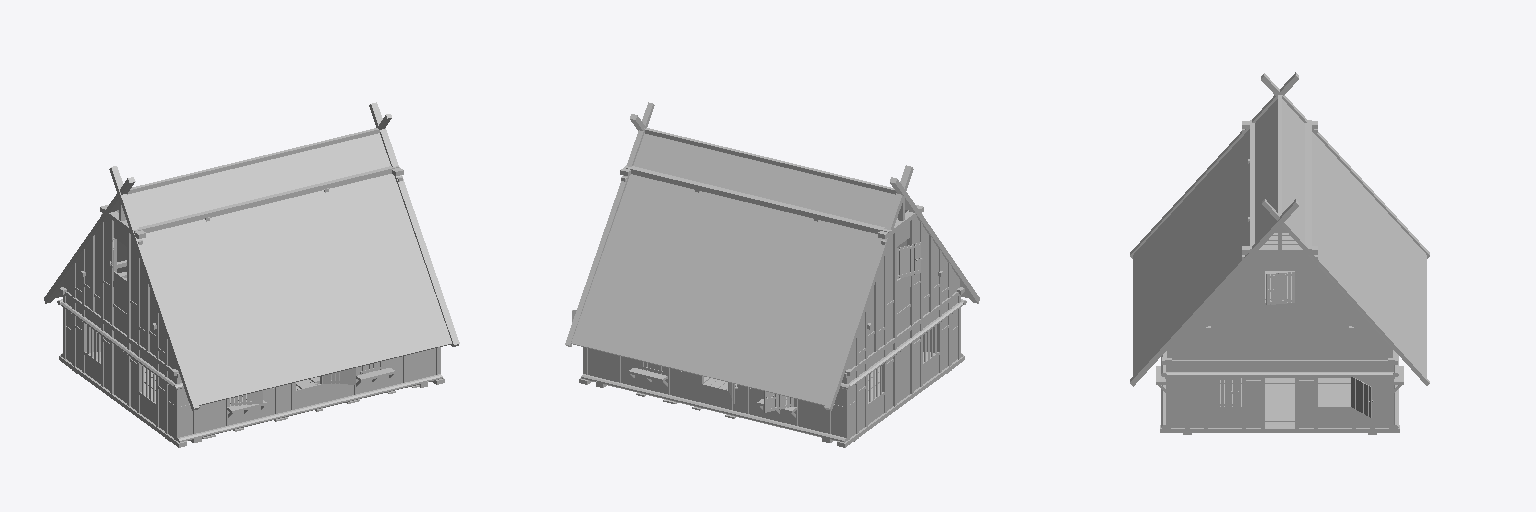
Rendered from home.obj.
3 renders of one model, left to right at view 1: azimuth 30°, elevation 25°; view 2: azimuth 150°, elevation 25°; view 3: azimuth 270°, elevation 25°, orthographic.
Parts seen in each view (by area): view 1: Cube.005, Cube.010_Cube.011, Cube.007, Cube.015_Cube.020; view 2: Cube.005, Cube.010_Cube.011, Cube.007, Cube.015_Cube.020; view 3: Cube.005, Cube.010_Cube.011, Cube.007, Cube.015_Cube.020.
Part boxes in pixels (x1,y1,x2,y2): Cube.005: (54, 133, 451, 405); Cube.010_Cube.011: (44, 102, 459, 447); Cube.007: (64, 217, 435, 437); Cube.015_Cube.020: (110, 238, 386, 405); Cube.005: (571, 133, 969, 405); Cube.010_Cube.011: (565, 102, 979, 447); Cube.007: (588, 217, 959, 437); Cube.015_Cube.020: (572, 242, 922, 412); Cube.005: (1133, 99, 1426, 377); Cube.010_Cube.011: (1130, 72, 1429, 434); Cube.007: (1167, 227, 1392, 427); Cube.015_Cube.020: (1165, 272, 1394, 417).
Bounding box in the file's own units: 18.39 × 13.68 × 15.93.